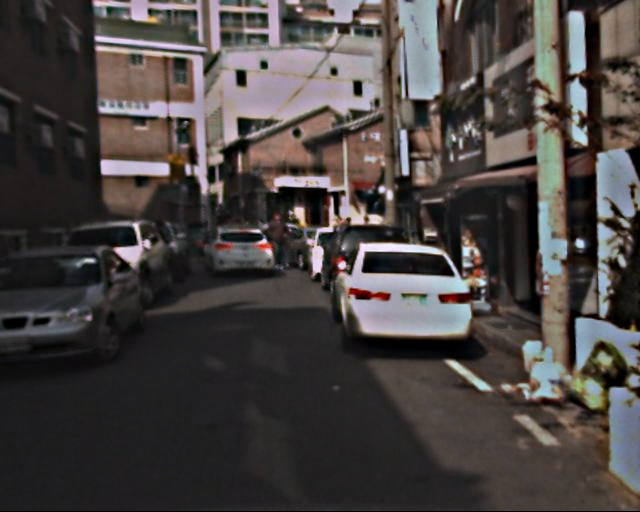person: (264, 211, 291, 276)
